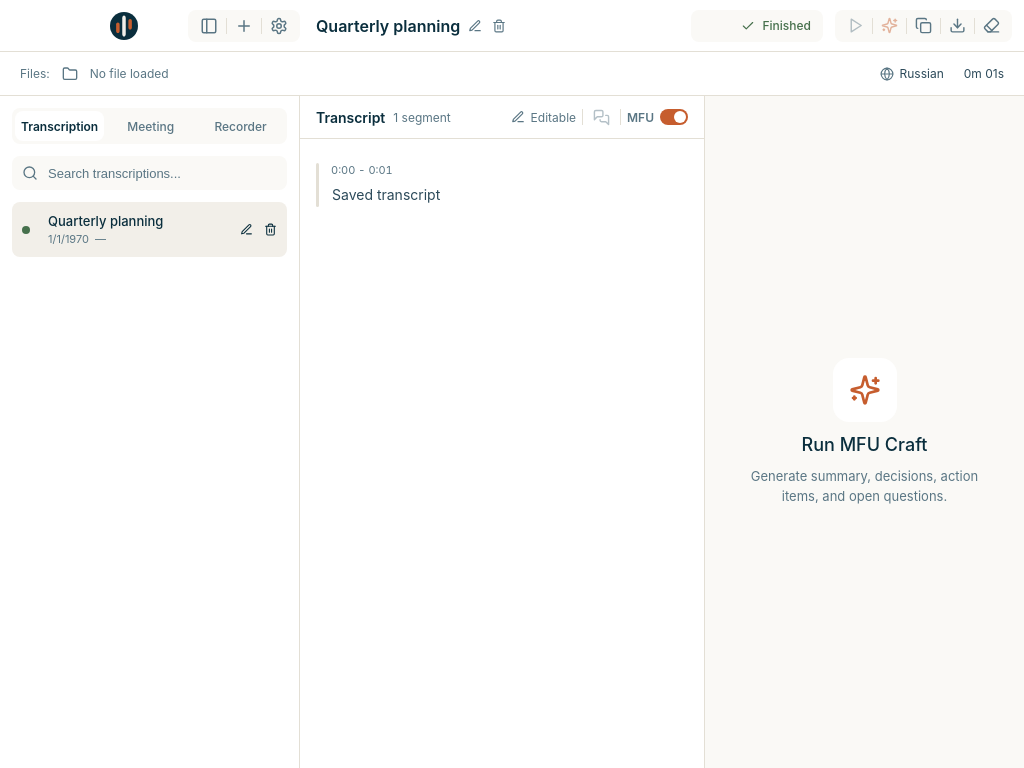
Test: App — IPC failures surface as errors without breaking the workspace › [WP-130] reports an export failure in the workspace instead of rejecting the click
This screenshot has width=1024, height=768.
Check: the heading "Quarterly planning" is shown, box [316,16,460,36]
Click the button named "Save": (958, 26) [945,13,970,38]
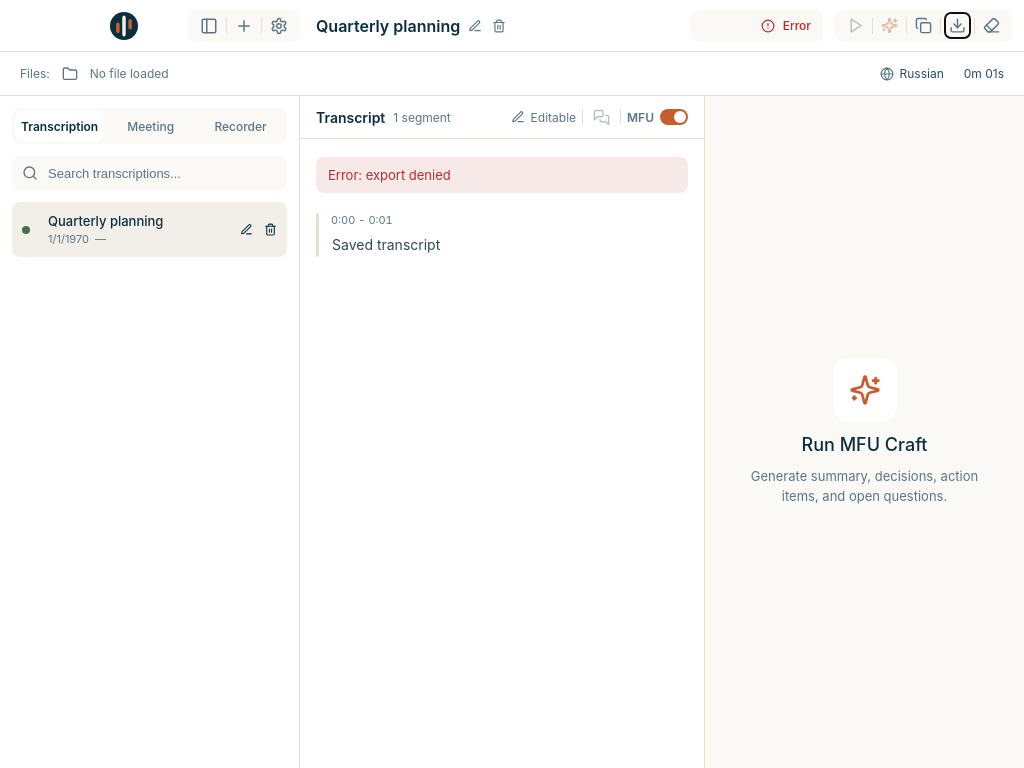
Check: the message "Error: export denied" is shown, box [316,157,688,193]
